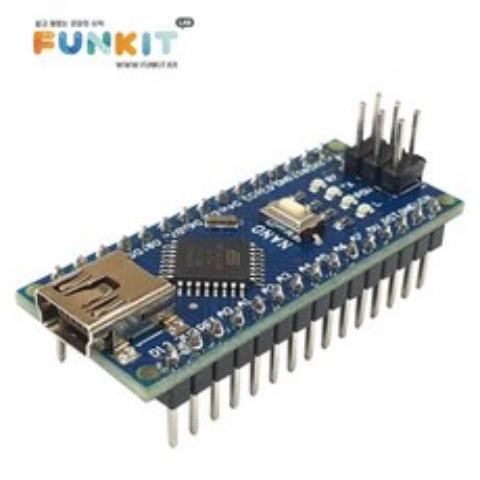Arduino-Nano: (11, 90, 467, 450)
